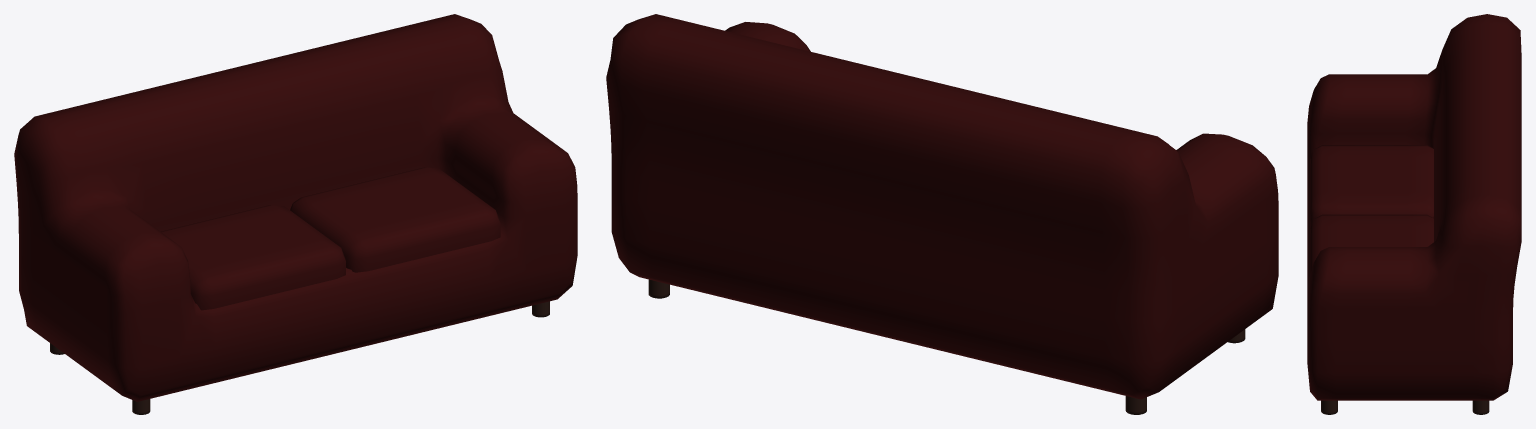
The model's file is couch.FBX.
3 views of the same model, side by side, from view 1: azimuth 30°, elevation 25°; view 2: azimuth 150°, elevation 25°; view 3: azimuth 270°, elevation 25° (orthographic). The views are drawn at different scales.
Parts seen in each view (by area): view 1: Box011; view 2: Box011; view 3: Box011.
Part boxes in pixels (<box>): Box011: <box>14,14,577,414</box>; Box011: <box>606,14,1278,414</box>; Box011: <box>1307,14,1521,414</box>.
Bounding box in the file's own units: 110 × 52.98 × 48.08.
